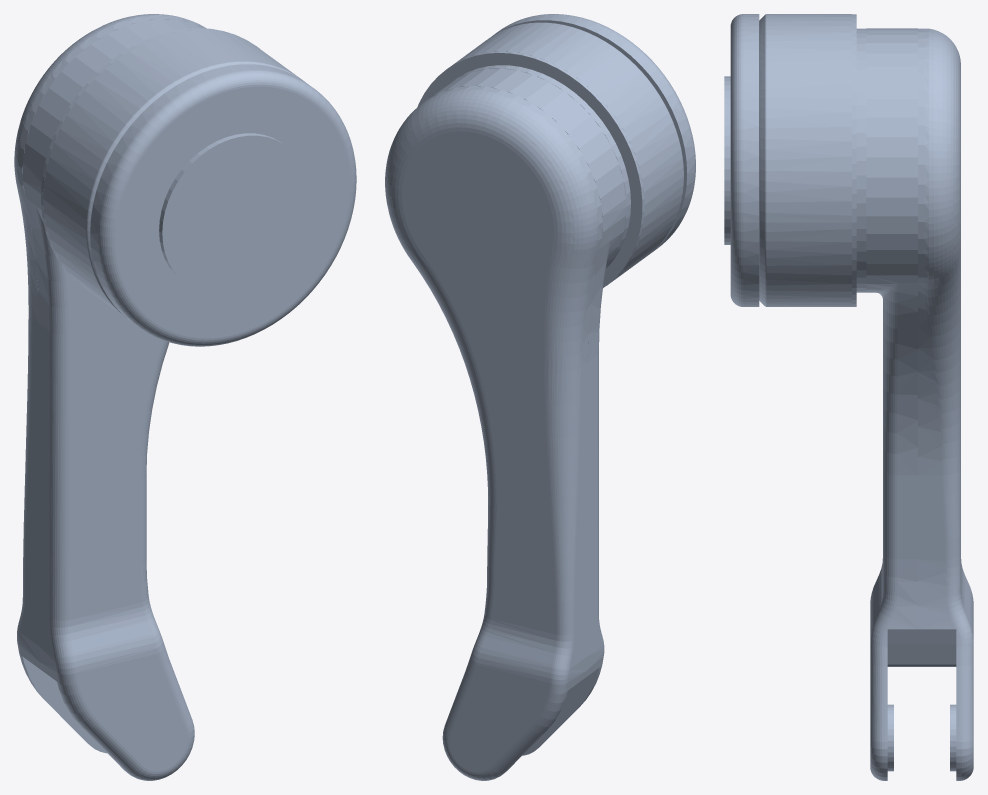
File: thigh.dae
The picture shows the model from 3 angles, left to right: view 1: azimuth 30°, elevation 25°; view 2: azimuth 150°, elevation 25°; view 3: azimuth 270°, elevation 25°; orthographic projection. The views are drawn at different scales.
Visible parts, largest first — view 1: Thigh Left; view 2: Thigh Left; view 3: Thigh Left.
Part boxes in pixels (x1,y1,x2,y2): Thigh Left: (14, 14, 356, 780); Thigh Left: (385, 14, 695, 780); Thigh Left: (724, 14, 973, 780).
Bounding box in the file's own units: 0.092 × 0.0783 × 0.2595.
